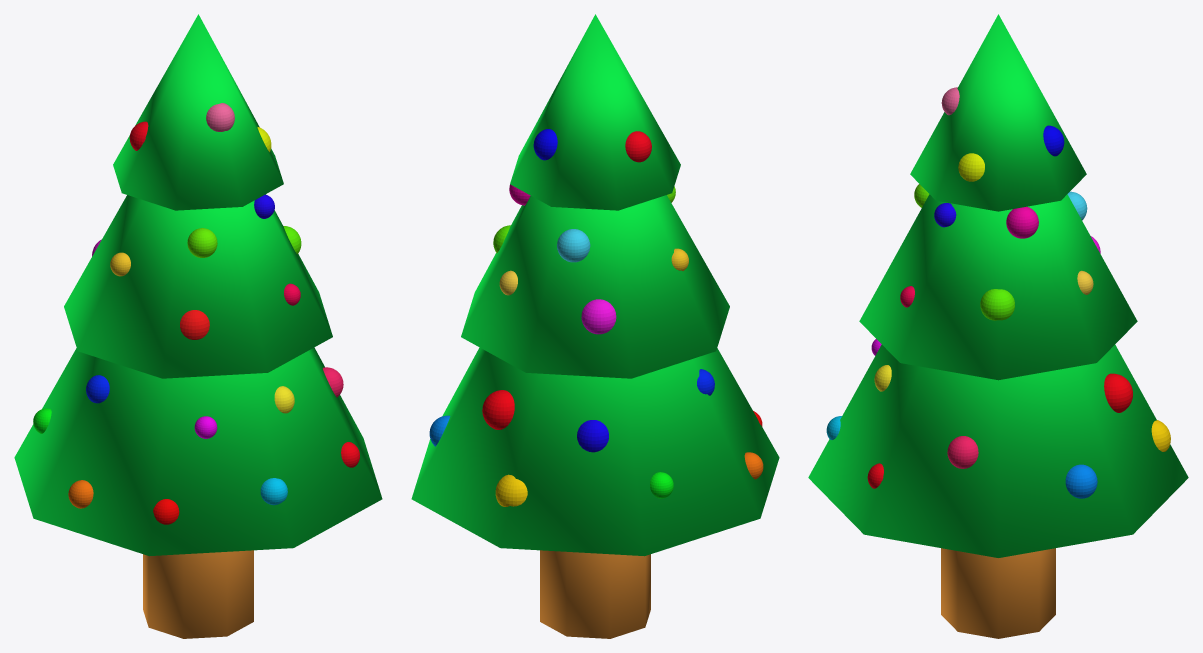
Rendered from tree.glb.
3 renders of one model, left to right at view 1: azimuth 30°, elevation 25°; view 2: azimuth 150°, elevation 25°; view 3: azimuth 270°, elevation 25°, orthographic.
Visible parts, largest first — view 1: Cone, Cone.001, Cone.002, Cylinder, Sphere.081, Sphere.080, Sphere.083, Sphere.100, Sphere.101, Sphere.084, Sphere.077; view 2: Cone, Cone.001, Cone.002, Cylinder, Sphere.091, Sphere.097, Sphere.093, Sphere.096, Sphere.095, Sphere.098, Sphere.092, Sphere.086; view 3: Cone, Cone.001, Cone.002, Cylinder, Sphere.088, Sphere.091, Sphere.090, Sphere.089, Sphere.087, Sphere.099.
Part boxes in pixels (x1,y1,x2,y2): Cone: (14,347,382,556); Cone.001: (64,194,332,378); Cone.002: (113,14,283,210); Cylinder: (143,550,253,638); Sphere.081: (187,228,217,257); Sphere.080: (180,310,209,339); Sphere.083: (206,103,234,131); Sphere.100: (260,478,287,505); Sphere.101: (68,480,93,508); Sphere.084: (86,375,109,403); Sphere.077: (153,499,179,524); Cone: (411,347,779,556); Cone.001: (461,195,729,378); Cone.002: (510,14,680,210); Cylinder: (540,550,650,638); Sphere.091: (482,390,514,429); Sphere.097: (581,299,616,334); Sphere.093: (557,229,590,262); Sphere.096: (577,420,608,452); Sphere.095: (495,474,527,506); Sphere.098: (625,131,651,162); Sphere.092: (533,129,557,160); Sphere.086: (650,472,673,498); Cone: (808,344,1188,557); Cone.001: (859,194,1137,380); Cone.002: (910,14,1086,211); Cylinder: (941,548,1055,638); Sphere.088: (980,289,1014,320); Sphere.091: (1104,373,1132,412); Sphere.090: (1065,464,1097,498); Sphere.089: (1006,206,1038,238); Sphere.087: (947,436,978,468); Sphere.099: (958,153,984,181).
Bounding box in the file's own units: 2.27 × 3.96 × 2.27.
